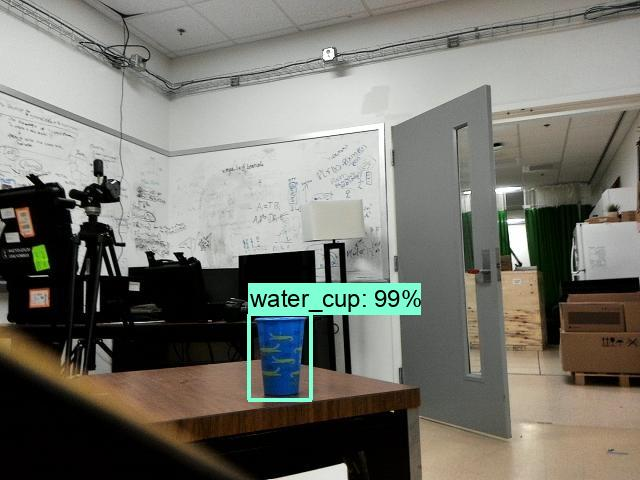water_cup: (246, 316, 310, 400)
